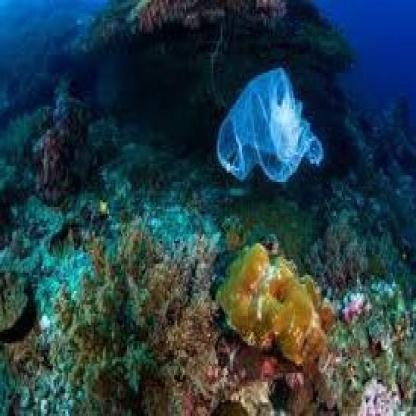pbag: (215, 66, 324, 182)
